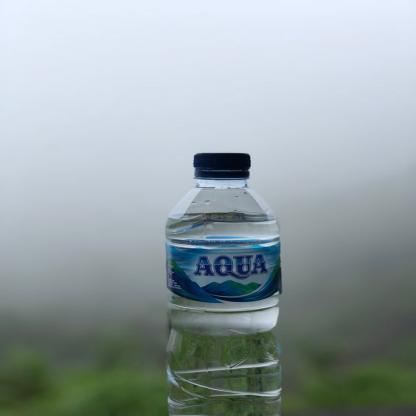plastic_bottles: (156, 150, 302, 416)
